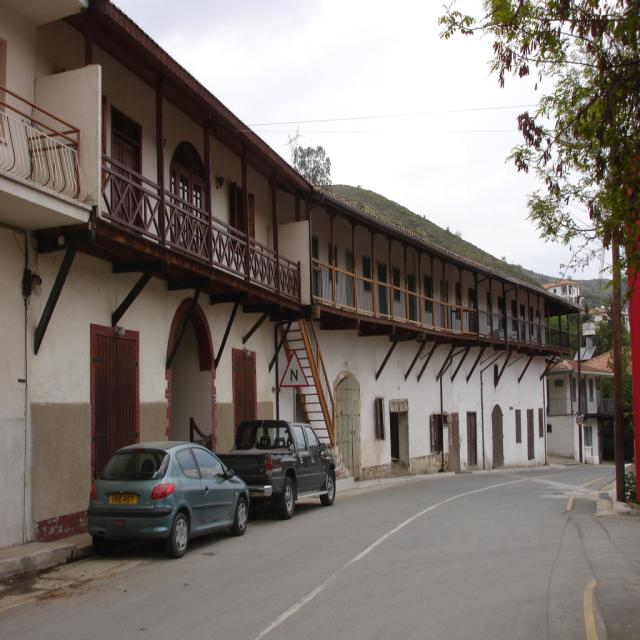car: (84, 438, 250, 559)
